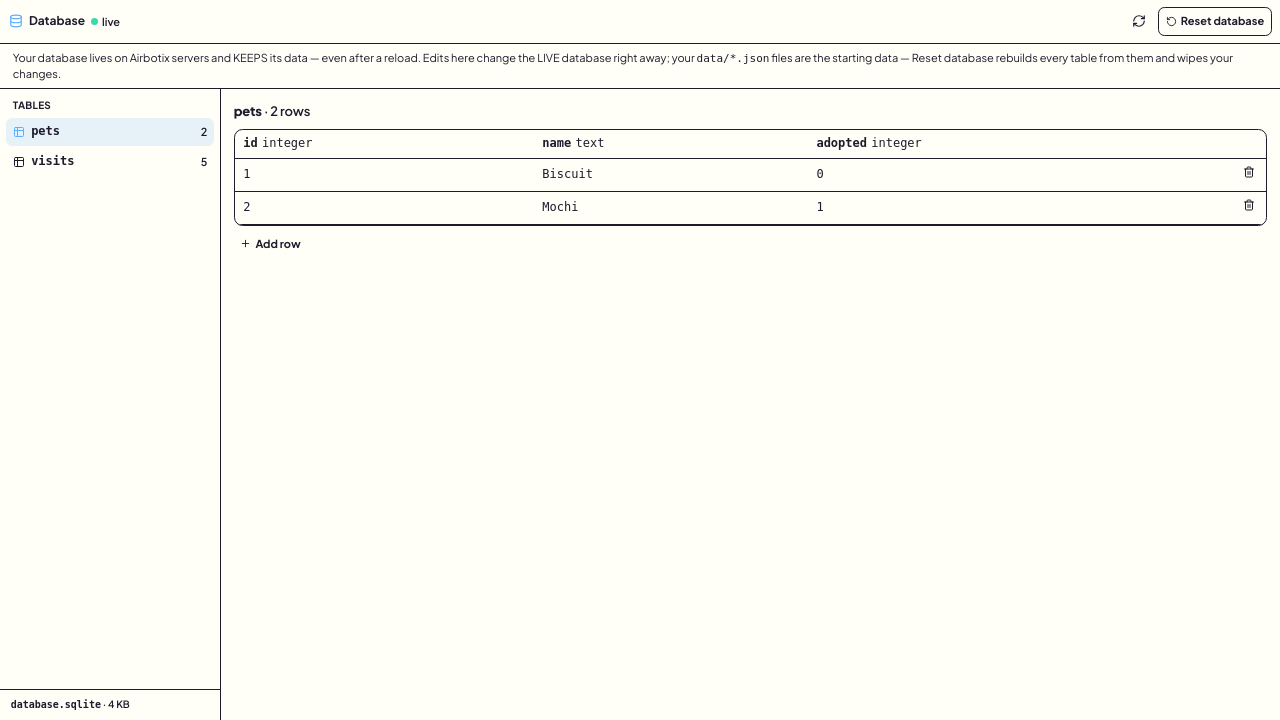
Scenario: DbPane — master–detail layout (D-WEB-18) › clicking a sidebar table switches the right panel (db-collection-<name> follows)
Step 1. Click the button with test id "db-table-visits" → click(110, 162), box [6, 148, 214, 176]
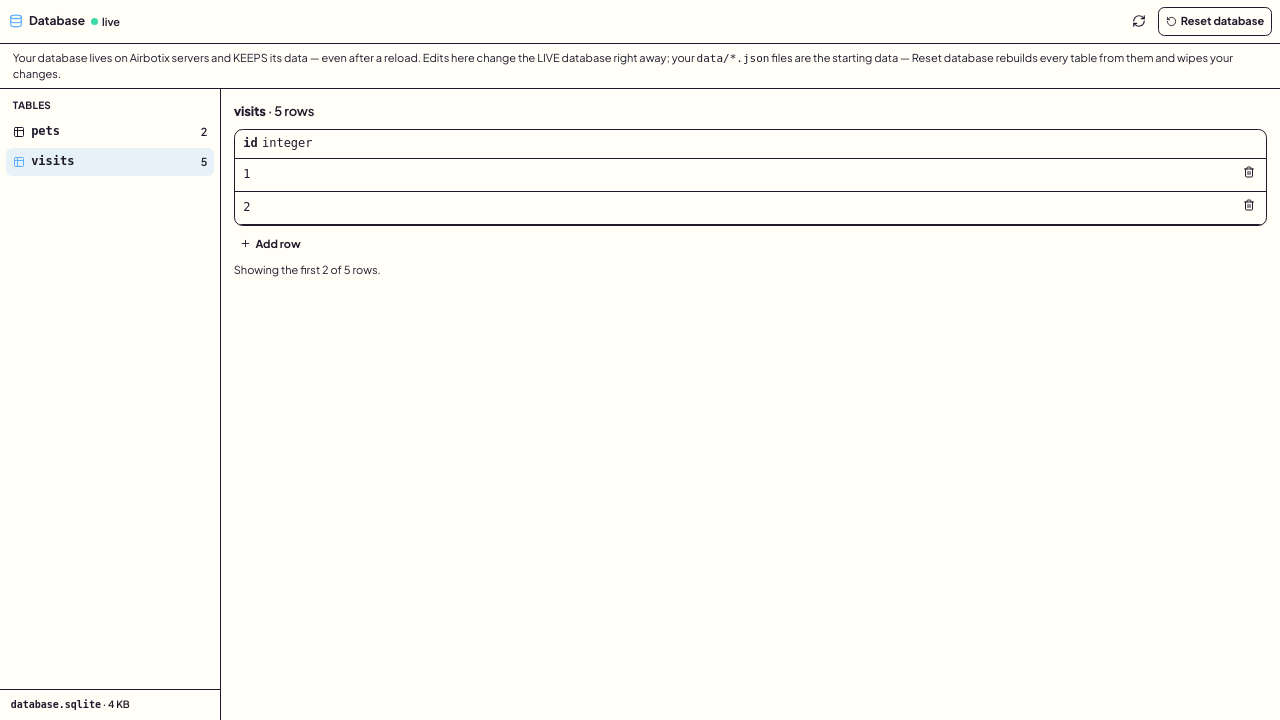
Expected: the element with test id "db-collection-visits" is shown, [234, 103, 1267, 276]
